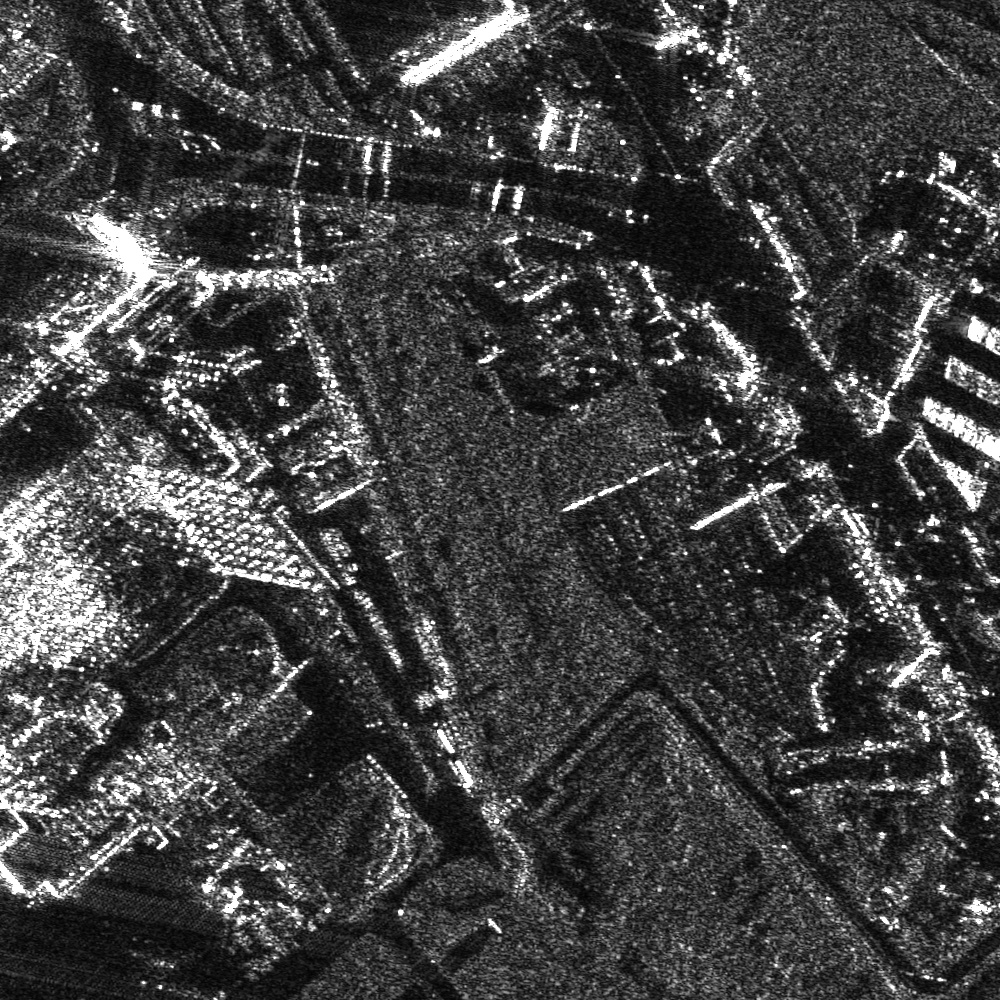Boeing737: (135, 945, 206, 999)
